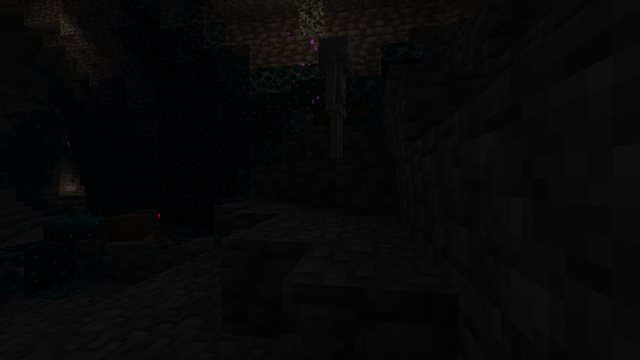araignees: (86, 205, 184, 254)
squelettes: (316, 33, 353, 158)
